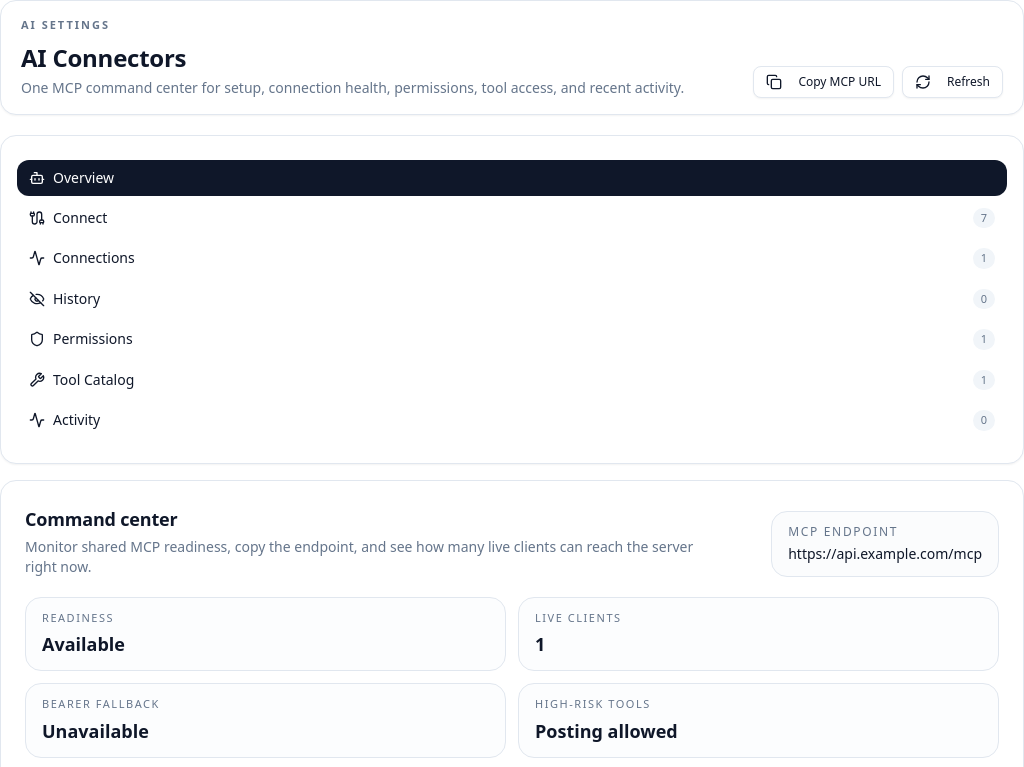
Test: AiConnectorsSettingsClient › locks bearer permission scope expansion while allowing existing grants to narrow
The width and height of the screenshot is (1024, 767).
Click the button with test id "ai-connectors-tab-permissions". click: coordinates (93, 339)
box: [17,321,1007,358]
(page scrolled)
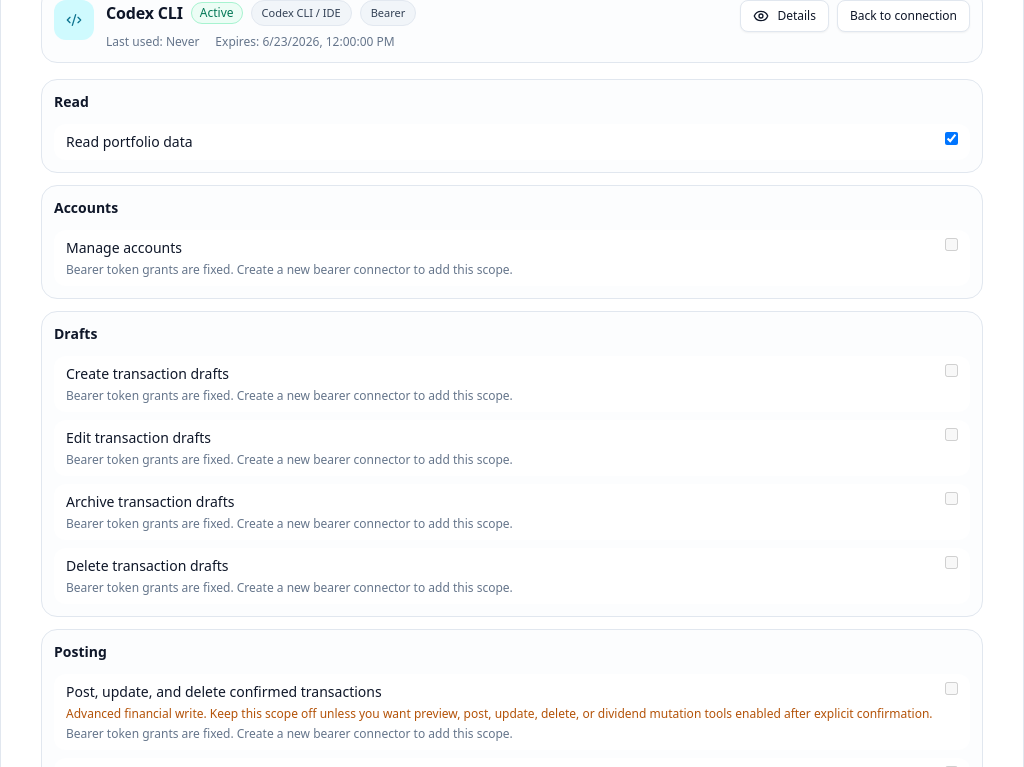
Expected: the checkbox labelled "Read portfolio data" is checked, [945,132,958,145]
Expected: the checkbox labelled "Read portfolio data" is enabled, [945,132,958,145]
Expected: the 3rd checkbox is not checked, [945,364,958,377]
